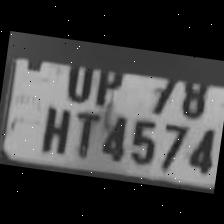4: (182, 117, 218, 174), (96, 106, 130, 162)
5: (122, 111, 161, 166)
7: (140, 59, 182, 114), (153, 114, 189, 172)
8: (174, 65, 212, 119)
H: (33, 98, 74, 154)
P: (87, 53, 128, 107)
T: (66, 102, 102, 159)
U: (58, 47, 100, 102)
